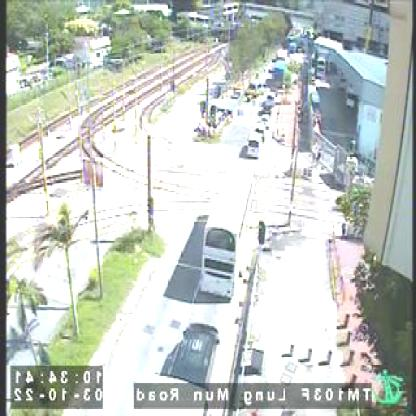Bus: (199, 158, 255, 298)
Car: (166, 321, 224, 383), (248, 132, 263, 154), (254, 122, 265, 136), (268, 92, 278, 102), (261, 116, 272, 125)
